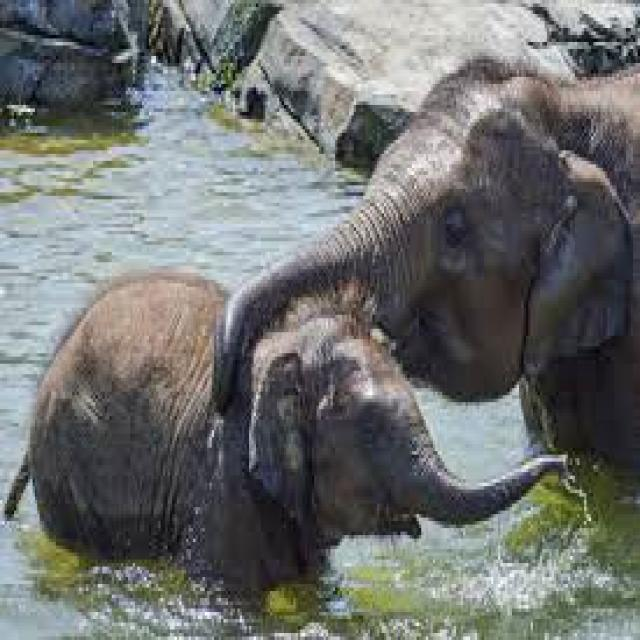elephant: (7, 269, 559, 588), (219, 59, 638, 472)
